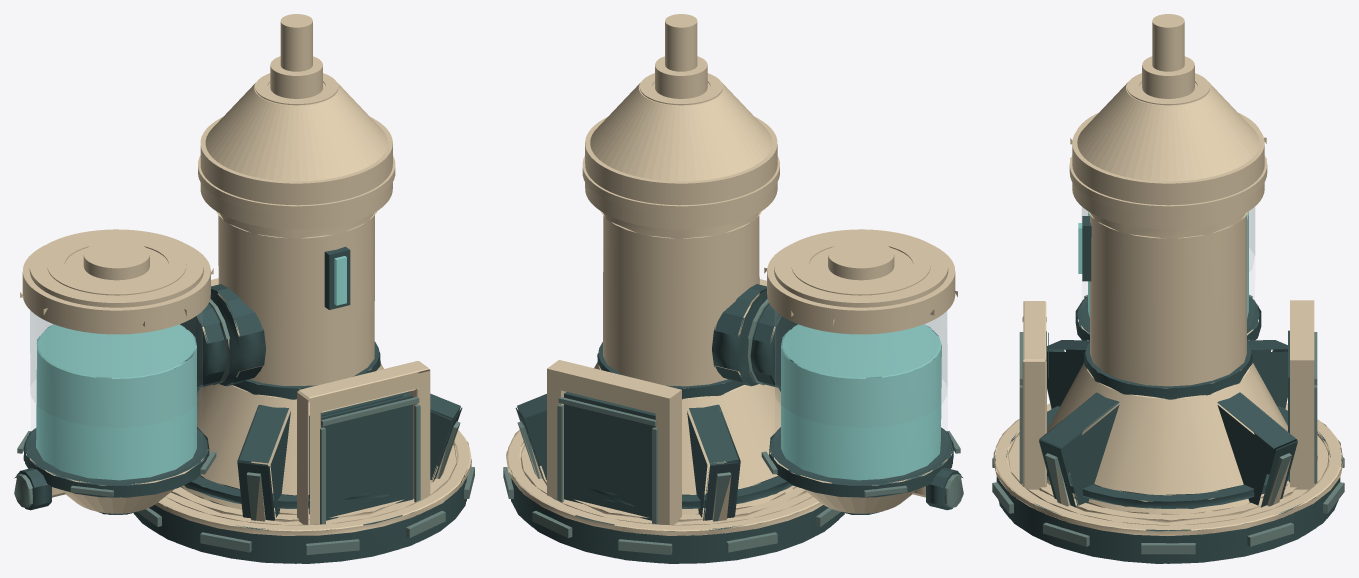
Rendered from Vat_T1_capneon.glb.
The picture shows the model from 3 angles, left to right: view 1: azimuth 30°, elevation 25°; view 2: azimuth 150°, elevation 25°; view 3: azimuth 270°, elevation 25°; orthographic projection.
Visible parts, largest first — view 1: Vat_T1, CapNeon; view 2: Vat_T1, CapNeon; view 3: Vat_T1, CapNeon.
Part boxes in pixels (x1,y1,x2,y2): Vat_T1: [14, 14, 474, 563]; CapNeon: [47, 73, 338, 295]; Vat_T1: [503, 14, 963, 563]; CapNeon: [639, 73, 930, 295]; Vat_T1: [992, 14, 1344, 563]; CapNeon: [1127, 73, 1209, 105].
Bounding box in the file's own units: 4.88 × 5.21 × 3.47.
